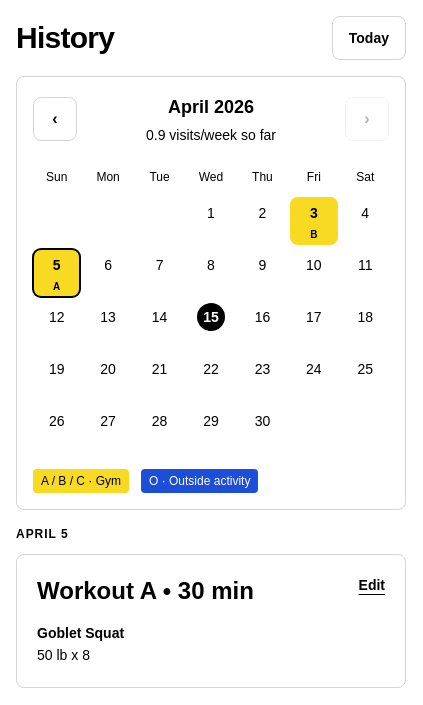
Test: HistoryPage › highlights workout days and shows only the selected day's details
The width and height of the screenshot is (423, 705).
Expected: the heading "Workout A • 30 min" is shown, top-left (37, 575), bottom-right (254, 607)
Expected: the heading "Workout B •" is not shown
Click the button named "April 3, 2026: Workout B" at (314, 221), box top-left (290, 197), bottom-right (338, 245)
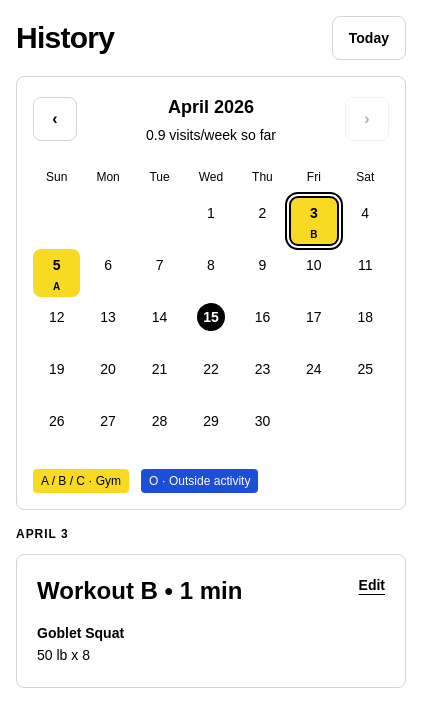
Expected: the heading "Workout B • 1 min" is shown, top-left (37, 575), bottom-right (242, 607)
Expected: the heading "Workout A •" is gone
Click the button named "April 4, 2026: No workouts" at (365, 221), box top-left (342, 197), bottom-right (389, 245)
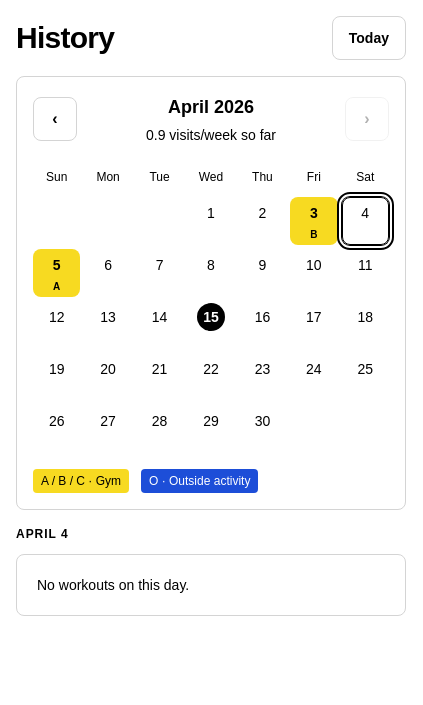
Expected: the text "No workouts on this day." is shown, top-left (16, 554), bottom-right (406, 616)
